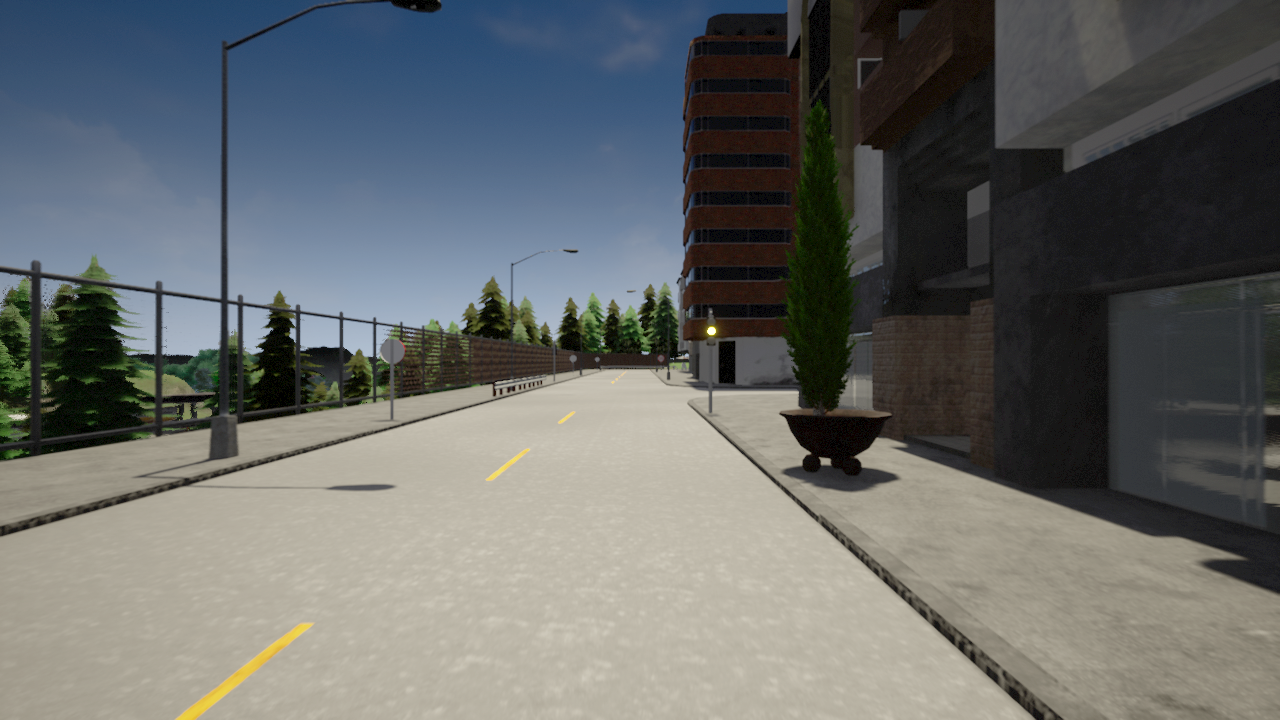yellow: (706, 315, 718, 346)
